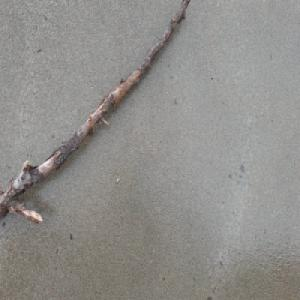Wood: (0, 0, 191, 226)
